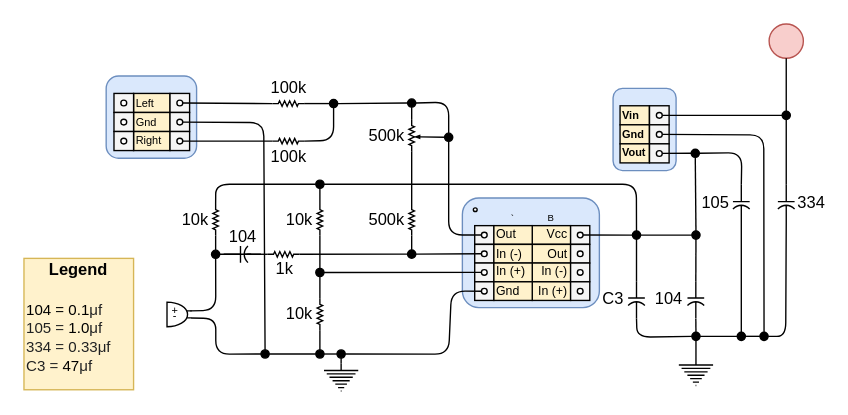
This 848x415 diagram has some shape labels left out. Each missing label, with the box of its shape:
12v: (768, 23, 803, 58)
LM358: (461, 197, 599, 308)
LM7809: (612, 87, 676, 171)
Output: (105, 75, 197, 158)
